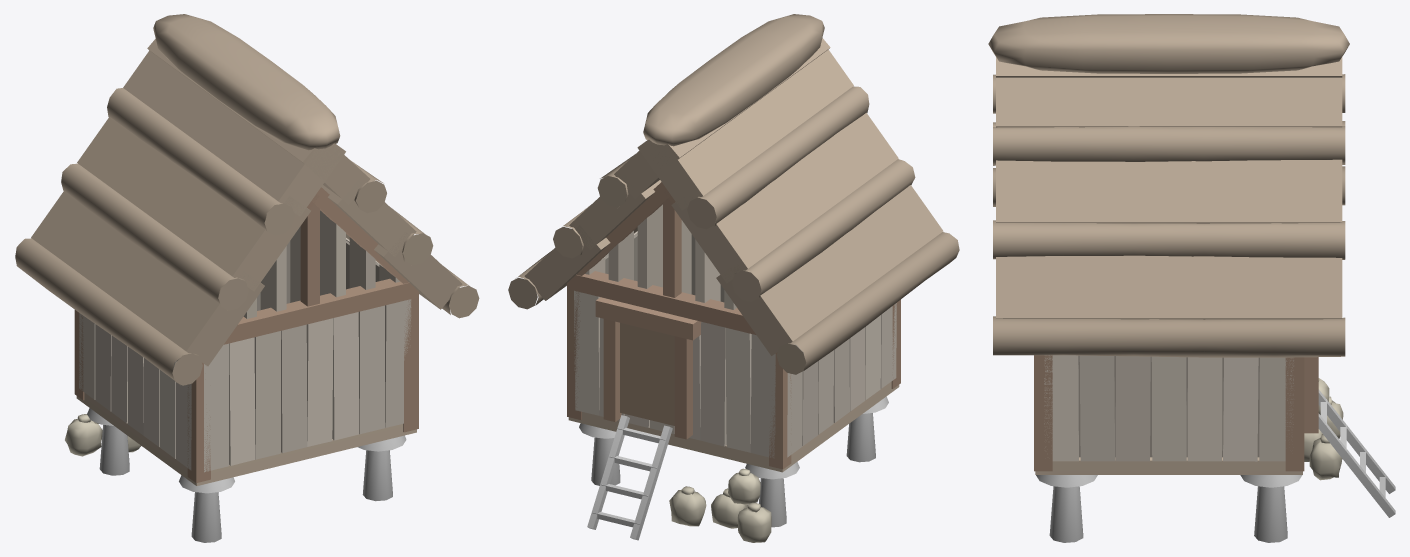
File: hw_granary.glb
The picture shows the model from 3 angles, left to right: view 1: azimuth 30°, elevation 25°; view 2: azimuth 150°, elevation 25°; view 3: azimuth 270°, elevation 25°; orthographic projection. The views are drawn at different scales.
Parts seen in each view (by area): view 1: Building; view 2: Building; view 3: Building.
Part boxes in pixels (x1=…): Building: x1=15, y1=14, x2=479, y2=542; Building: x1=508, y1=14, x2=959, y2=542; Building: x1=988, y1=14, x2=1395, y2=542.
Bounding box in the file's own units: 2.53 × 3.28 × 2.59.
